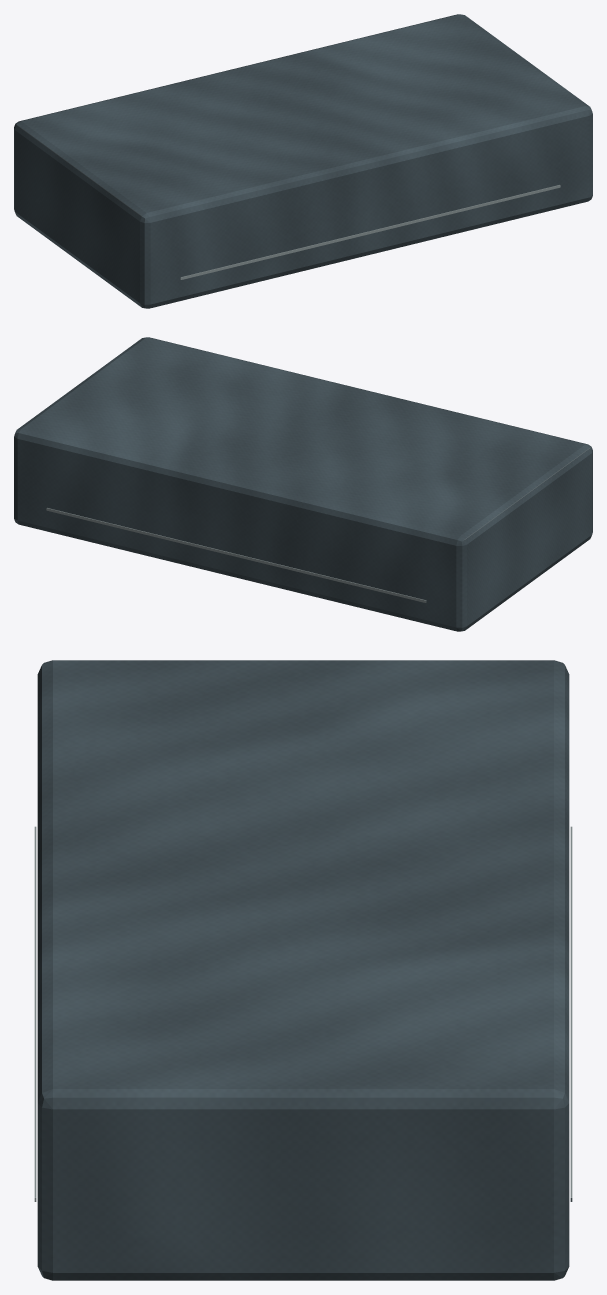
The model's file is 05_Salopette_LowerTorso.fbx.
3 renders of one model, top to bottom at view 1: azimuth 30°, elevation 25°; view 2: azimuth 150°, elevation 25°; view 3: azimuth 270°, elevation 25°, orthographic. The views are drawn at different scales.
Visible parts, largest first — view 1: 05_Salopette_LowerTorso; view 2: 05_Salopette_LowerTorso; view 3: 05_Salopette_LowerTorso.
Boxes of the visible parts, x1,y1,x2,y2 form: 05_Salopette_LowerTorso: (14, 14, 592, 308); 05_Salopette_LowerTorso: (14, 337, 592, 631); 05_Salopette_LowerTorso: (34, 660, 572, 1280).
Bounding box in the file's own units: 2.03 × 0.41 × 1.04.
1 material, 1 textured.
